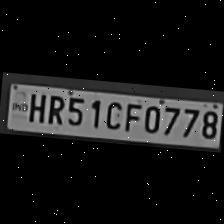0: (138, 100, 162, 134)
1: (85, 96, 103, 129)
5: (63, 92, 87, 128)
7: (177, 103, 200, 138), (159, 102, 180, 136)
8: (196, 105, 220, 140)
C: (101, 97, 123, 131)
F: (120, 99, 142, 132)
H: (24, 88, 47, 123)
R: (43, 90, 65, 126)
